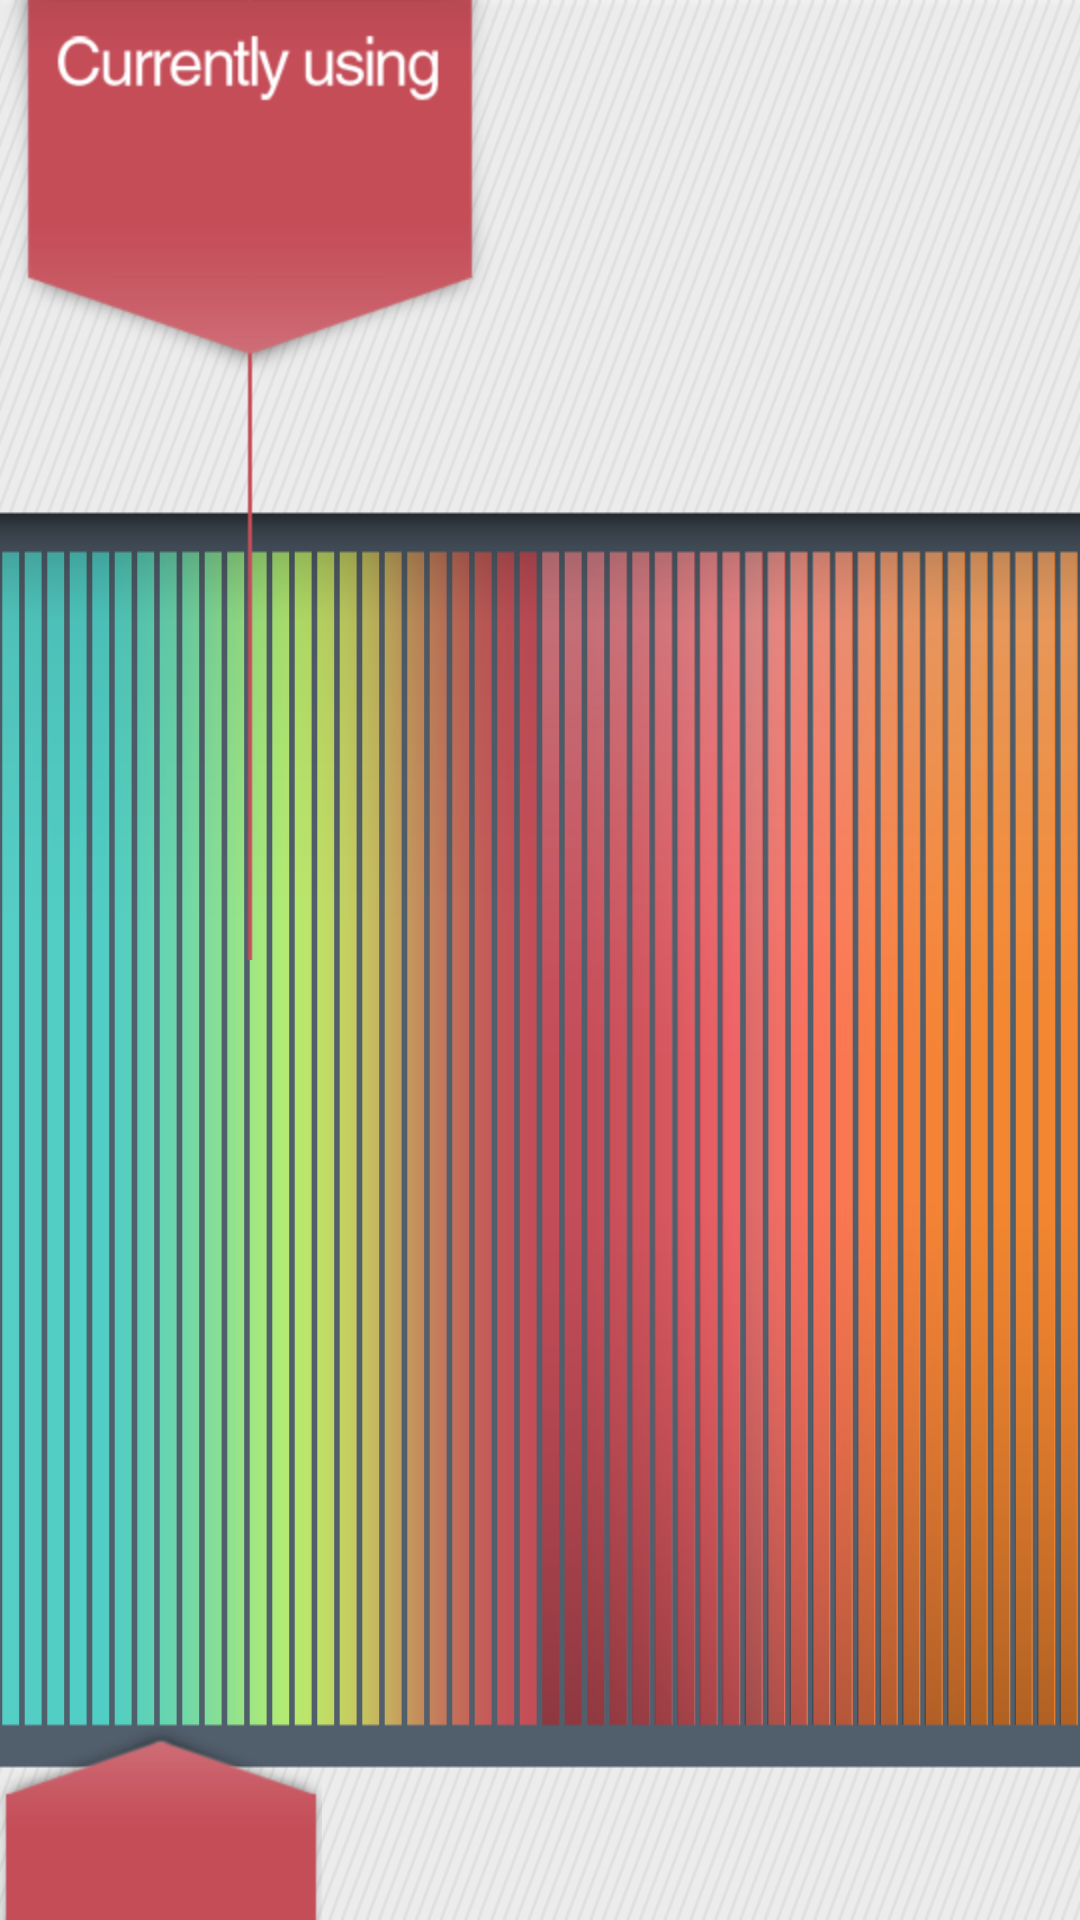

Icon click points for this 1080w x 1920h phone screenshot, format (x=x, y=y):
max indicator: (x=161, y=1822)
